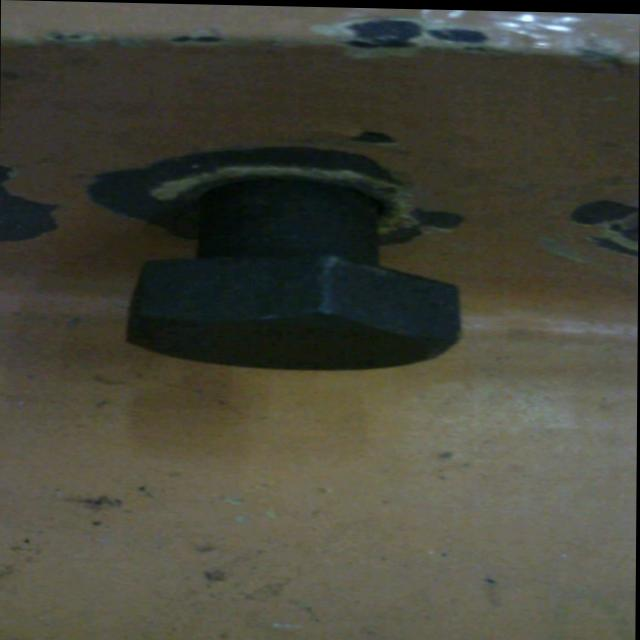Loose bolt: (125, 178, 462, 377)
Rusty bolt: (122, 177, 469, 381)
